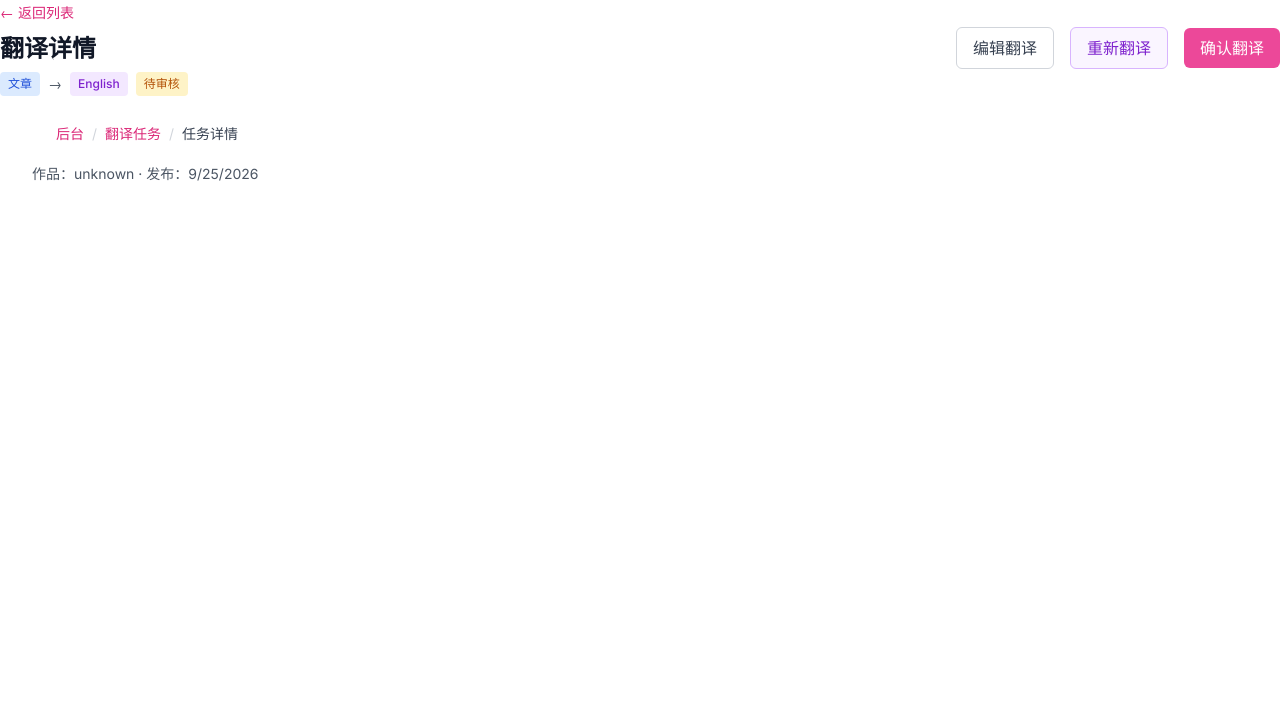
Test: TranslationDetailUI › handles full re-translate flow
Expected: the heading "翻译详情" is shown, [0,31,96,64]
Click the button "编辑翻译": (1005, 48) [956,27,1054,69]
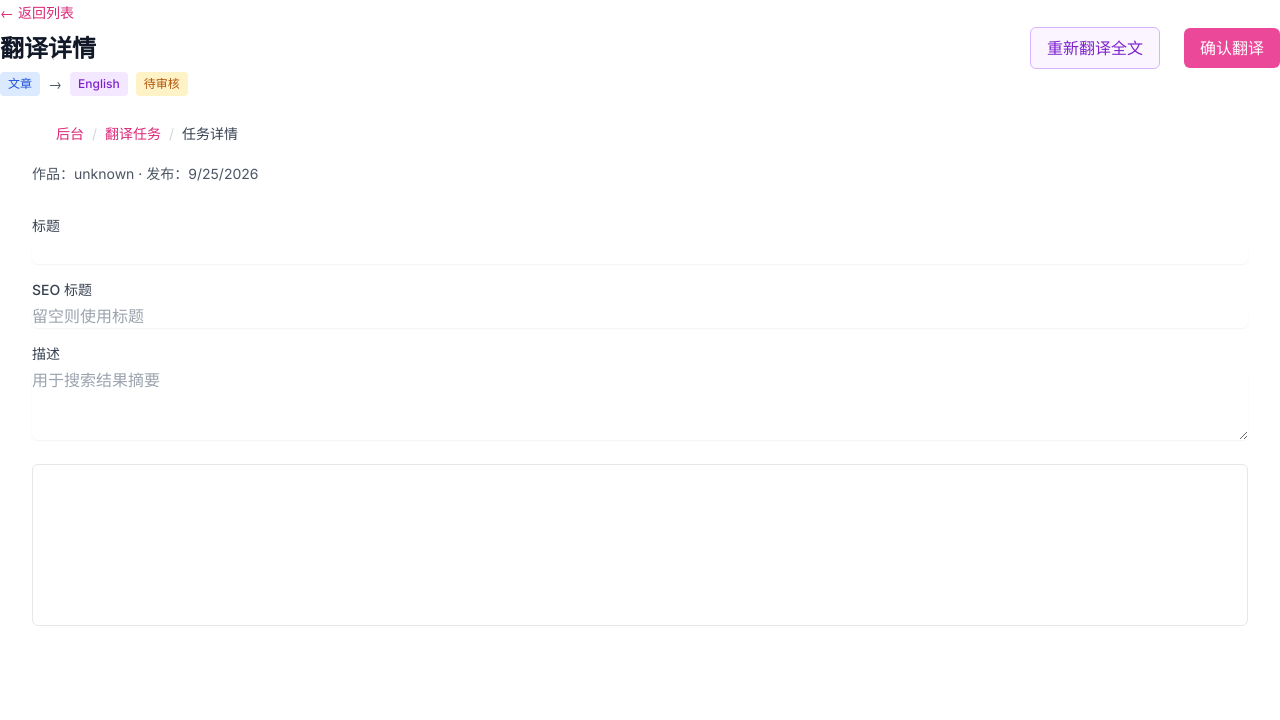
Click the button "重新翻译全文": (1095, 48) [1030,27,1160,69]
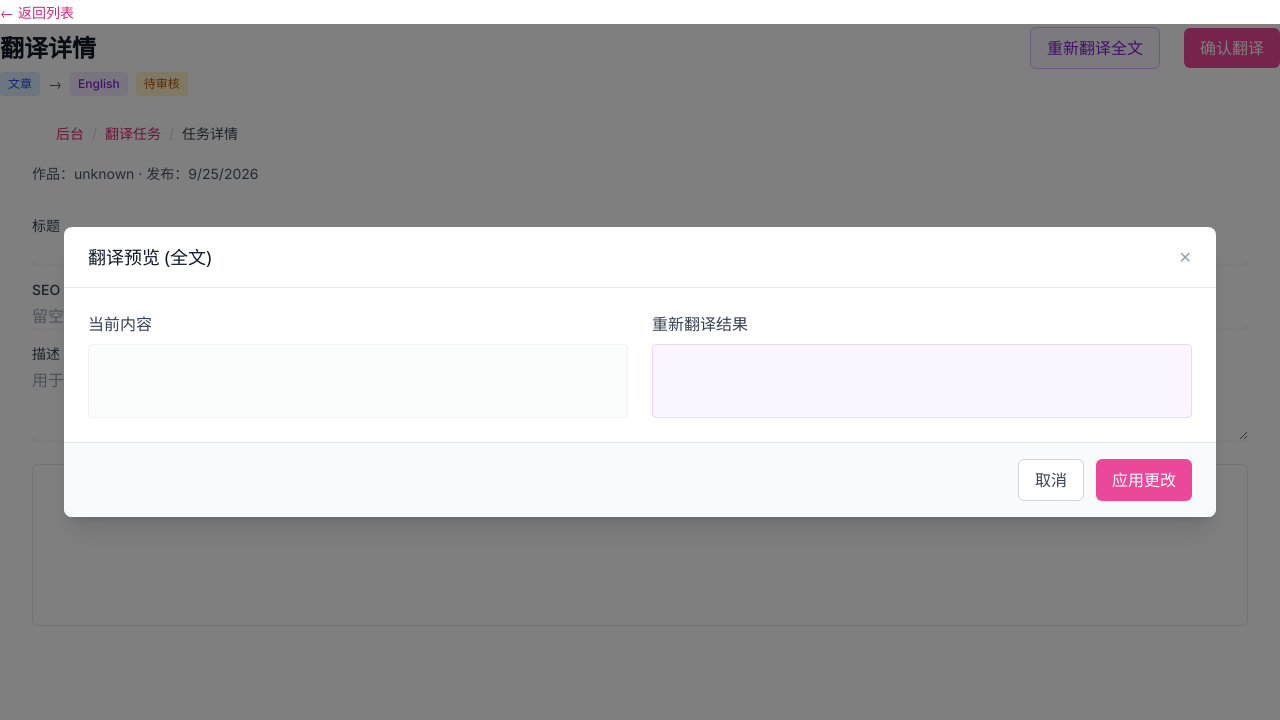
Expected: the heading "翻译预览 (全文)" is shown, [88,243,212,271]
Expected: the button "应用更改" is shown
Click the button "应用更改": (1144, 480) [1096,459,1192,501]
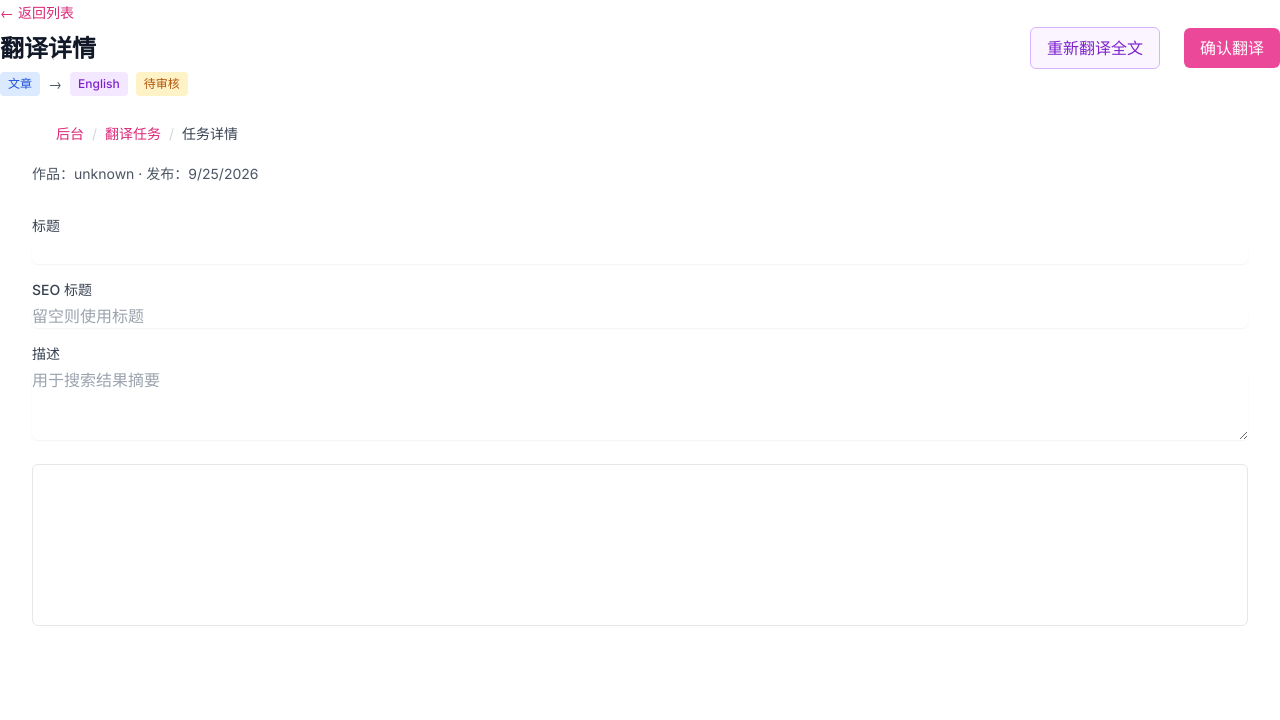
Expected: the heading "翻译预览 (全文)" is gone
